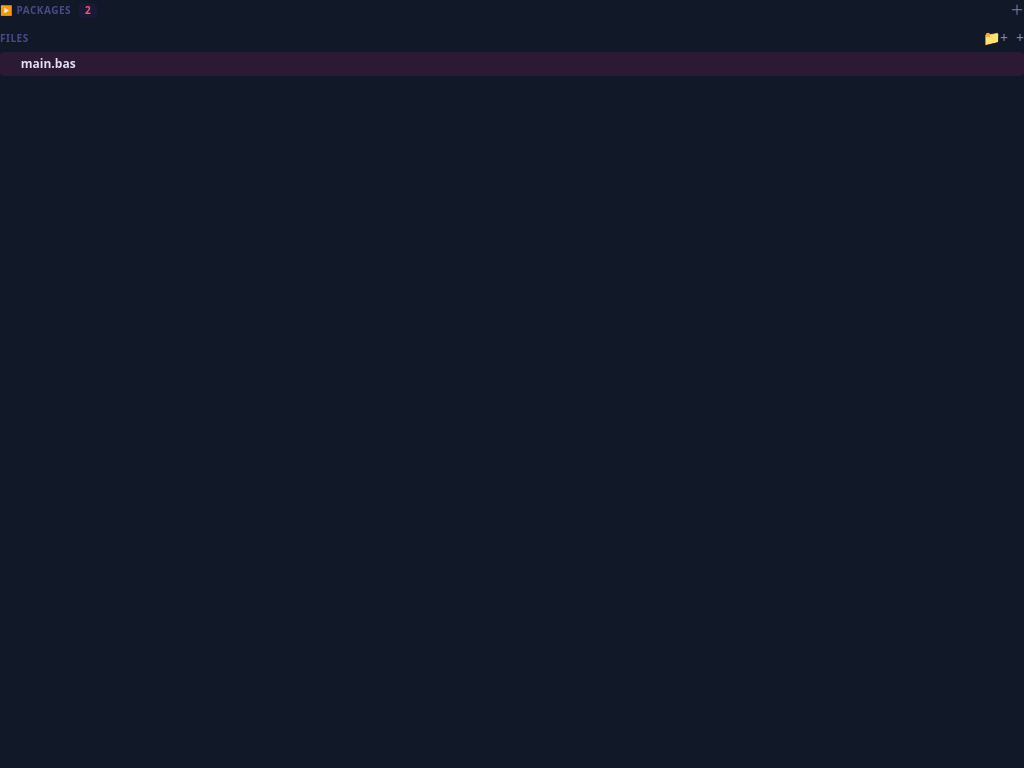
it: rejects a filename starting with a number
The image size is (1024, 768).
Click the button "+": (1020, 38) [1016, 28, 1023, 48]
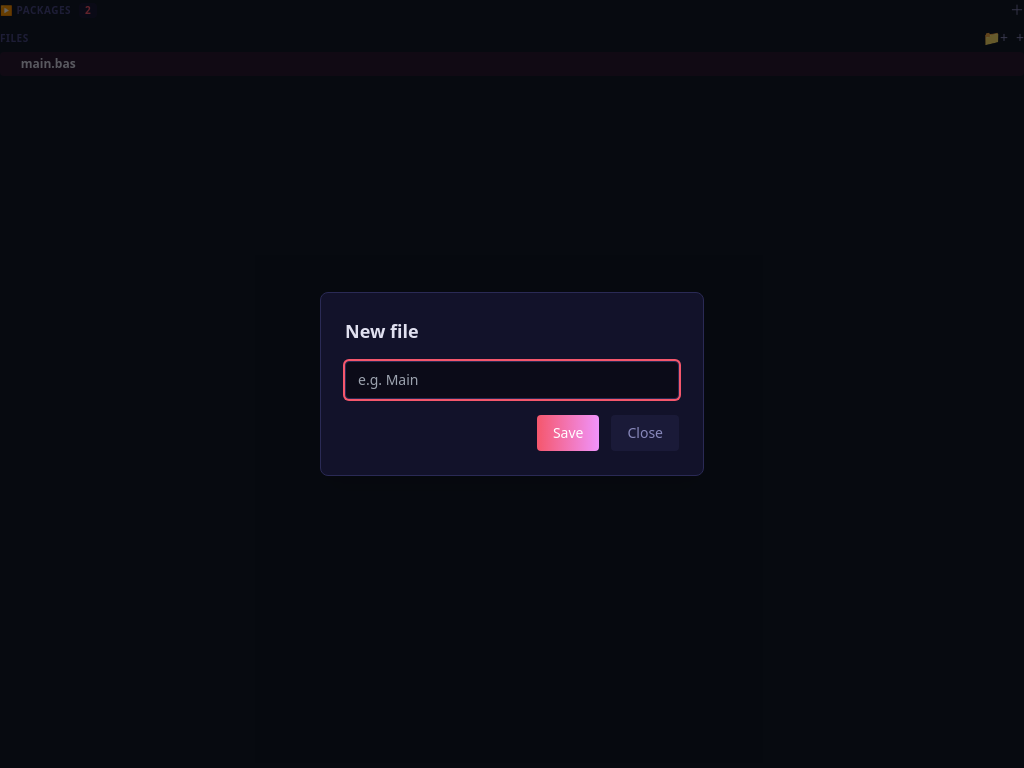
In the field: (512, 380) [345, 361, 679, 399], type "1Bad"
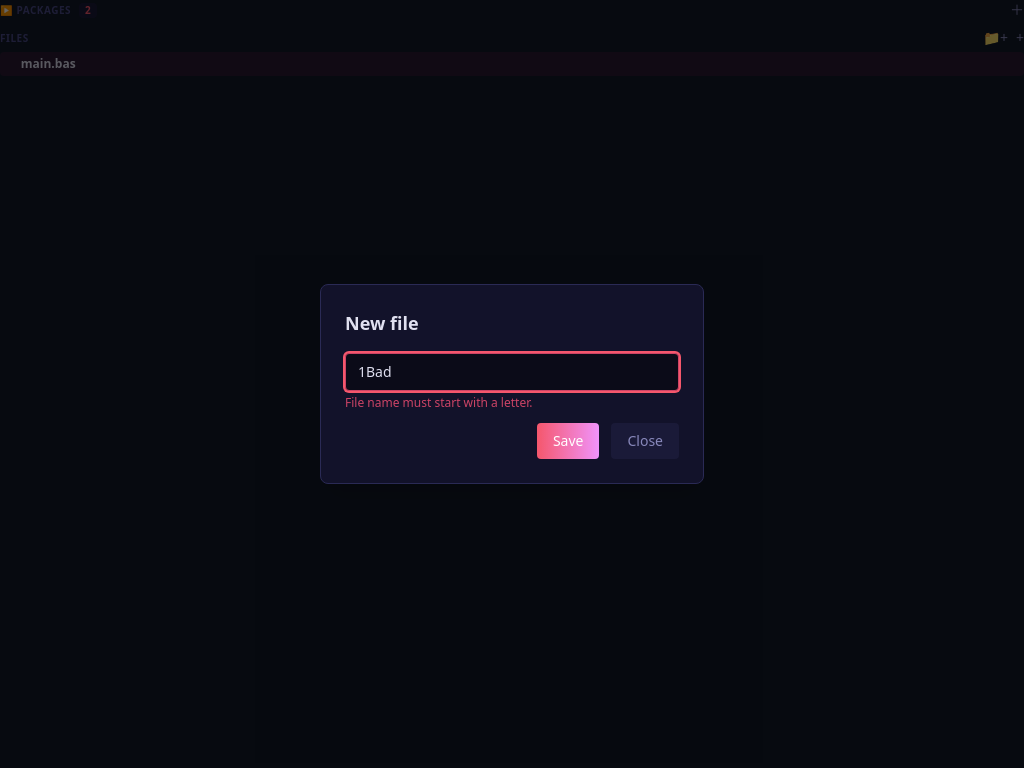
Now the text "File name must start with a letter." is shown, box [345, 394, 532, 411]
